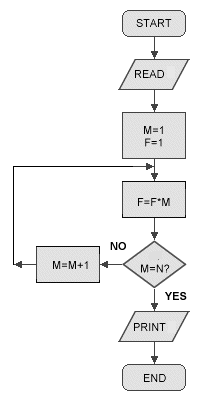arrow: (9, 163, 155, 261), (149, 283, 161, 311), (99, 259, 126, 269), (149, 217, 160, 241), (11, 259, 35, 269), (150, 89, 159, 111), (150, 37, 159, 58), (150, 159, 159, 180), (150, 342, 158, 362)
data: (116, 56, 191, 93), (116, 309, 191, 344)
decision: (122, 240, 186, 289)
process: (119, 110, 189, 161), (33, 243, 102, 286), (119, 179, 189, 220), (120, 8, 188, 40), (121, 362, 188, 393)
text: (139, 124, 166, 148), (134, 15, 173, 31), (49, 257, 90, 271), (133, 195, 172, 209), (133, 66, 167, 81), (130, 320, 167, 332), (138, 263, 170, 276), (162, 289, 190, 303), (141, 371, 169, 385), (107, 238, 128, 253)
